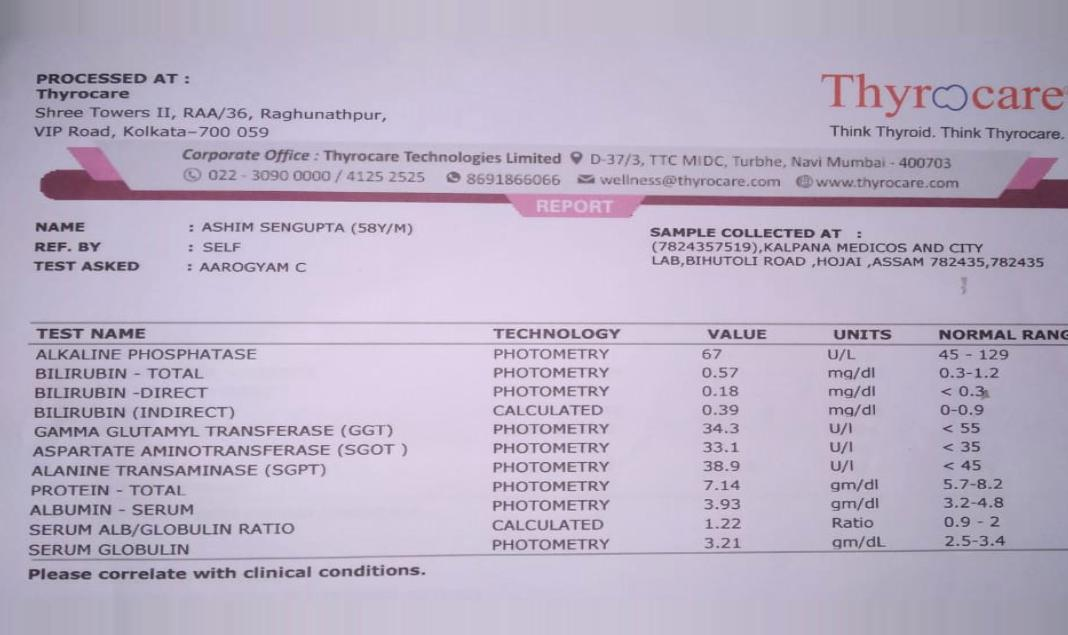Reference Range: (929, 343, 1024, 553)
Test Name: (21, 342, 415, 564)
Units: (819, 343, 897, 553)
Value: (690, 342, 758, 556)
